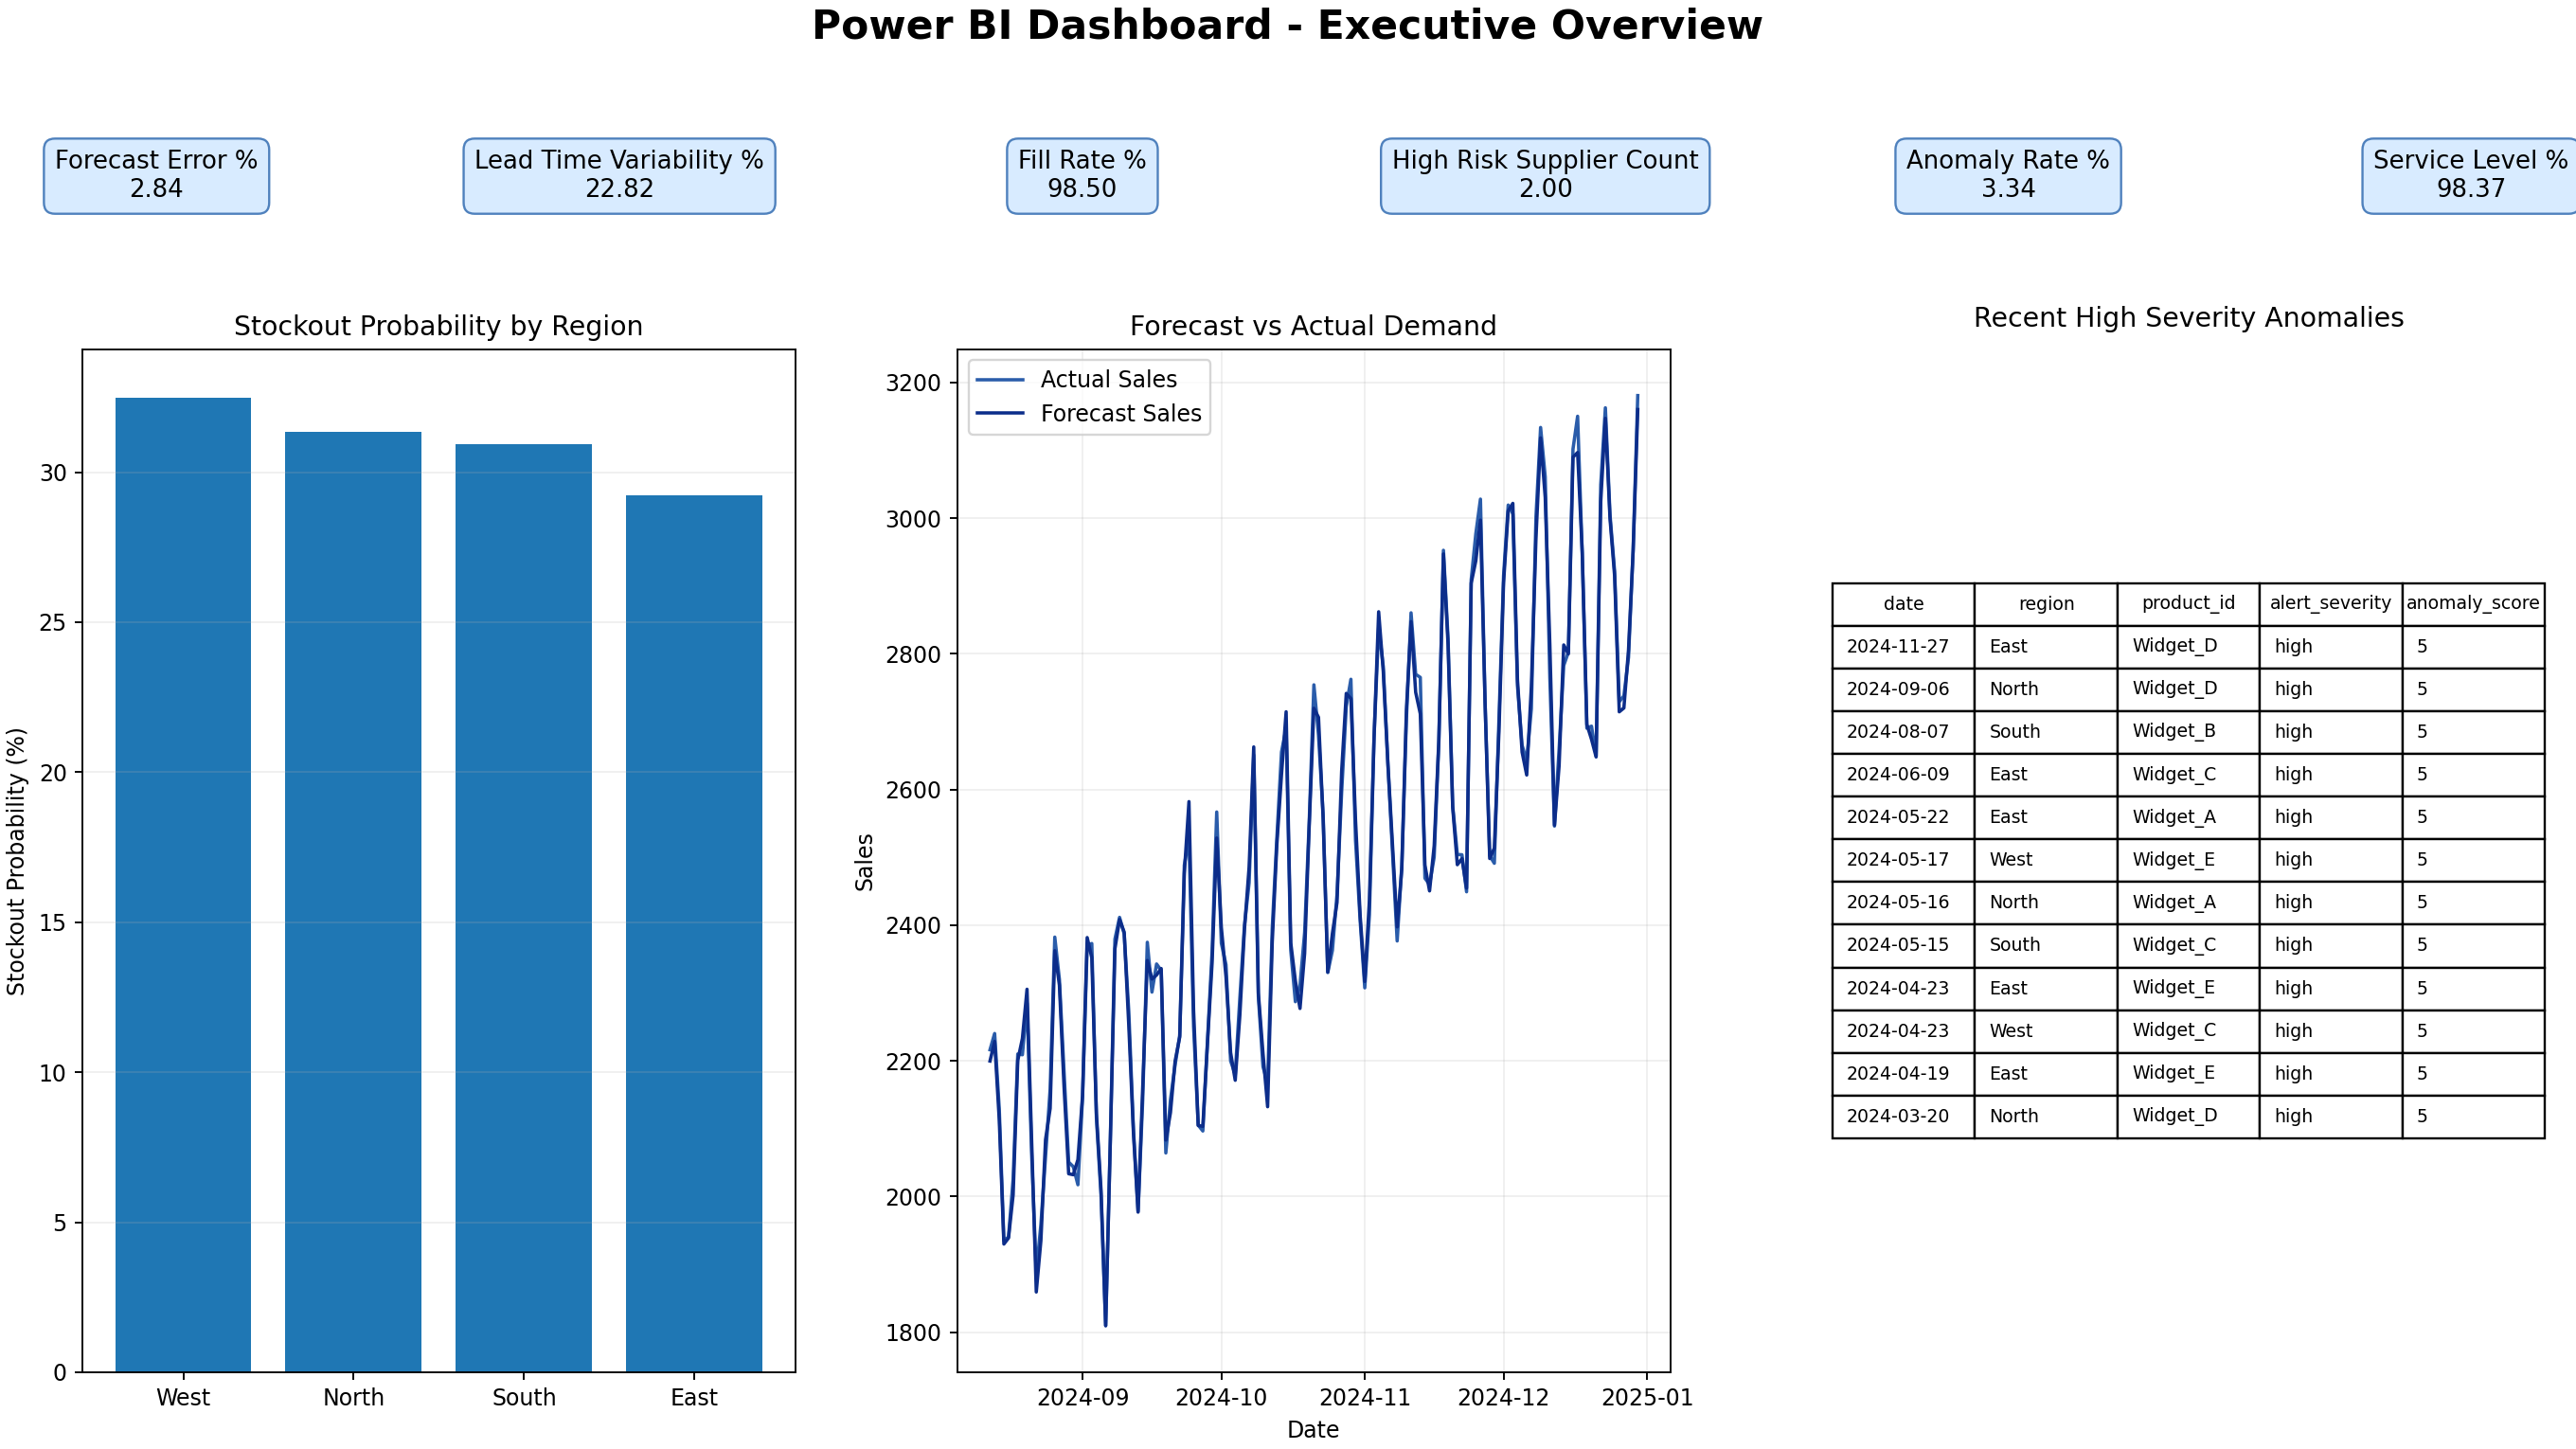

The page's visual inventory and layout, read from the dashboard file:
{"tool":"powerbi","page":{"name":"Executive Overview","canvas":[1280,720],"ordinal":0},"visuals":[{"type":"card","title":"Service Level %","fields":{"Values":["Sum(kpi_summary.value)"]},"box":[1003.1,227,196.9,104.1],"z":0},{"type":"card","title":"File Rate %","fields":{"Values":["Sum(kpi_summary.value)"]},"box":[392.5,227,196.9,104.1],"z":1000},{"type":"card","title":"Lead Time Variability %","fields":{"Values":["Sum(kpi_summary.value)"]},"box":[196.9,227,195.6,104.1],"z":2000},{"type":"card","title":"Forecast Error %","fields":{"Values":["Sum(kpi_summary.value)"]},"box":[0,227,196.9,104.1],"z":3000},{"type":"card","title":"Anomaly Rate %","fields":{"Values":["Sum(kpi_summary.value)"]},"box":[806.3,227,196.9,104.1],"z":4000},{"type":"card","title":"High Risk Supplier Count %","fields":{"Values":["Sum(kpi_summary.value)"]},"box":[589.3,227,216.9,104.1],"z":5000},{"type":"lineChart","title":"Forecast vs Actual Demand","fields":{"Y":["Sum(demand_forecast_vs_actual.actual_sales)"],"Y2":["Sum(demand_forecast_vs_actual.forecast_sales)"],"Category":["demand_forecast_vs_actual.date"]},"box":[480.3,367.4,711,314.7],"z":6000},{"type":"tableEx","fields":{"Values":["anomaly_alerts.date.Variation.Date Hierarchy.Year","anomaly_alerts.date.Variation.Date Hierarchy.Quarter","anomaly_alerts.date.Variation.Date Hierarchy.Month","anomaly_alerts.date.Variation.Date Hierarchy.Day","anomaly_alerts.region","anomaly_alerts.product_id","anomaly_alerts.alert_severity","anomaly_alerts.anomaly_reason","Sum(anomaly_alerts.anomaly_score)"]},"box":[0,0,1202.5,227],"z":7000},{"type":"clusteredColumnChart","title":"Stockout Probability by Region","fields":{"Category":["stockout_probability.region"],"Y":["Sum(stockout_probability.stockout_probability)"]},"box":[0,331,440.1,388.7],"z":8000}]}

Visuals, with their boxes in screenshot pixels (x1, y1, x2, y2), scaled from the page's 1280x720 canvas onto the 2576x1449 screenshot:
"Service Level %" card: <region>2019, 456, 2415, 667</region>
"File Rate %" card: <region>790, 456, 1186, 667</region>
"Lead Time Variability %" card: <region>396, 456, 790, 667</region>
"Forecast Error %" card: <region>0, 456, 396, 667</region>
"Anomaly Rate %" card: <region>1622, 456, 2019, 667</region>
"High Risk Supplier Count %" card: <region>1186, 456, 1622, 667</region>
"Forecast vs Actual Demand" lineChart: <region>967, 740, 2398, 1372</region>
tableEx - anomaly_alerts.date.Variation.Date Hierarchy.Year x anomaly_alerts.date.Variation.Date Hierarchy.Quarter: <region>0, 0, 2420, 456</region>
"Stockout Probability by Region" clusteredColumnChart: <region>0, 666, 885, 1448</region>
